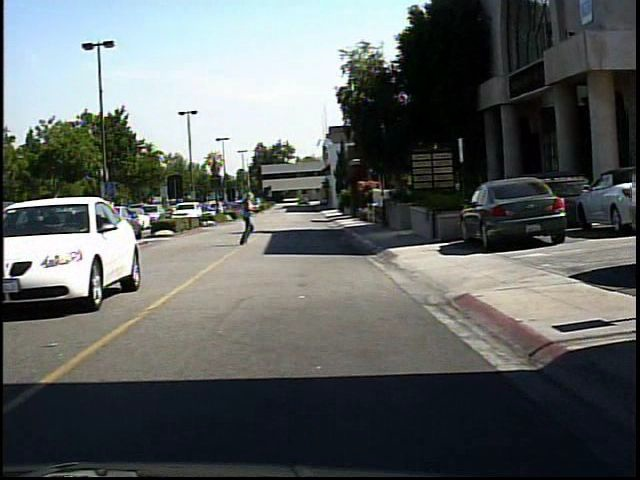person: (228, 187, 259, 248)
